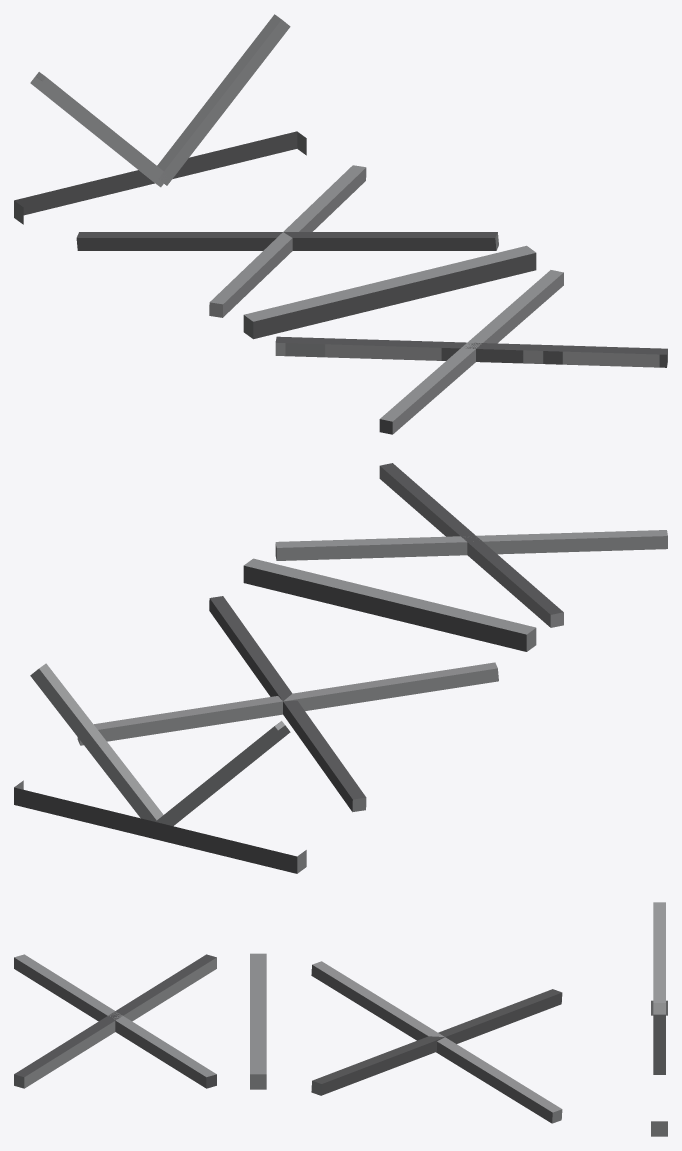
The picture shows the model from 3 angles, top to bottom: view 1: azimuth 30°, elevation 25°; view 2: azimuth 150°, elevation 25°; view 3: azimuth 270°, elevation 25°; orthographic projection. The views are drawn at different scales.
Bounding box in the file's own units: 1.04 × 0.4853 × 2.33.
